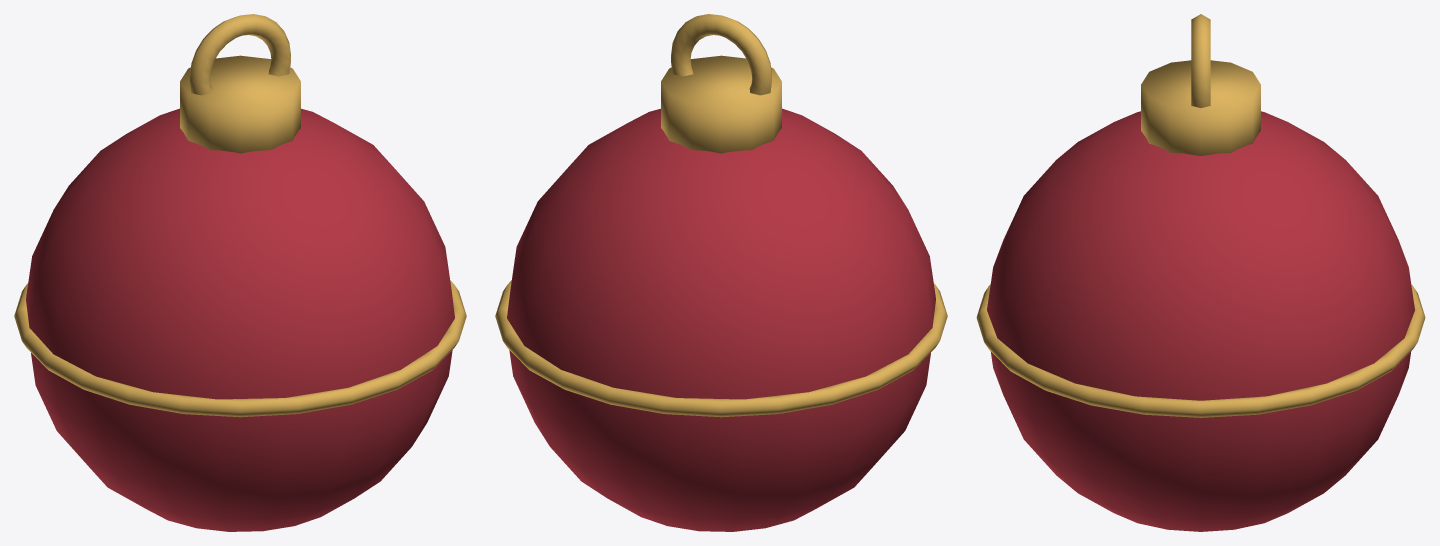
The model's file is ball-red.glb.
3 renders of one model, left to right at view 1: azimuth 30°, elevation 25°; view 2: azimuth 150°, elevation 25°; view 3: azimuth 270°, elevation 25°, orthographic.
Visible parts, largest first — view 1: Tint, Cap, Equator ribbon, Hanging loop; view 2: Tint, Cap, Equator ribbon, Hanging loop; view 3: Tint, Cap, Equator ribbon, Hanging loop.
Part boxes in pixels (x1,y1,x2,y2): Tint: (26, 108, 454, 531); Cap: (180, 55, 300, 153); Equator ribbon: (14, 280, 466, 417); Hanging loop: (190, 14, 290, 95); Tint: (507, 108, 935, 531); Cap: (661, 55, 781, 153); Equator ribbon: (495, 280, 947, 417); Hanging loop: (671, 14, 771, 95); Tint: (987, 111, 1414, 531); Cap: (1141, 60, 1260, 155); Equator ribbon: (976, 284, 1425, 417); Hanging loop: (1191, 14, 1210, 107).
Bounding box in the file's own units: 0.24 × 0.291 × 0.24.
